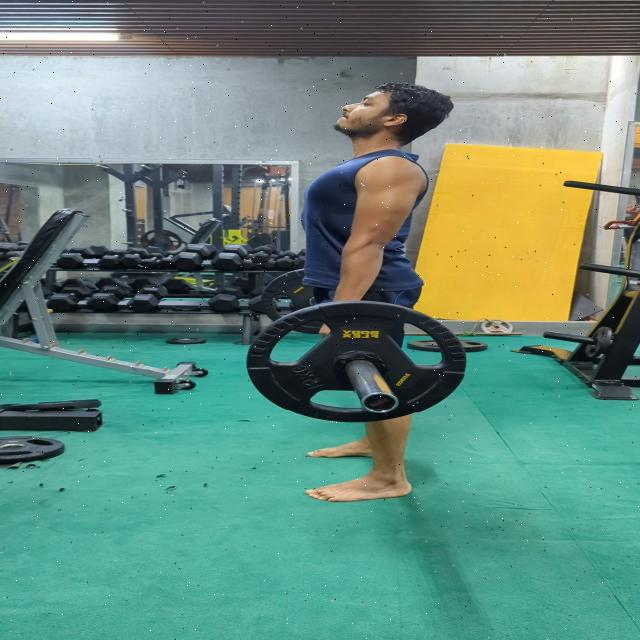Normal_Deadlifts: (290, 81, 460, 506)
